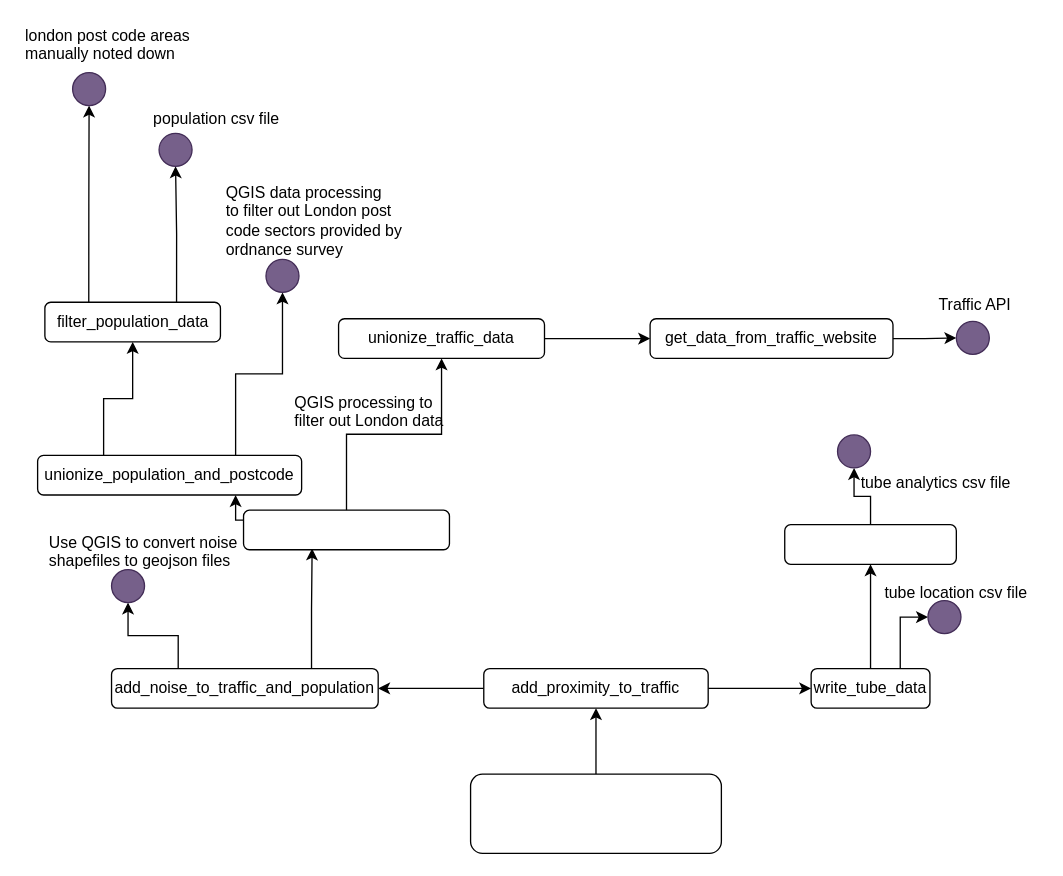
Some shapes in this 1063 by 876 pixel diagram are drawn without their labels. The centre of each missing label's shape, as x and y in pixels:
add_population_to_traffic: point (345, 529)
multivariate_regression for Noise Pollution: point (595, 813)
write_tube_analytics: point (869, 543)
